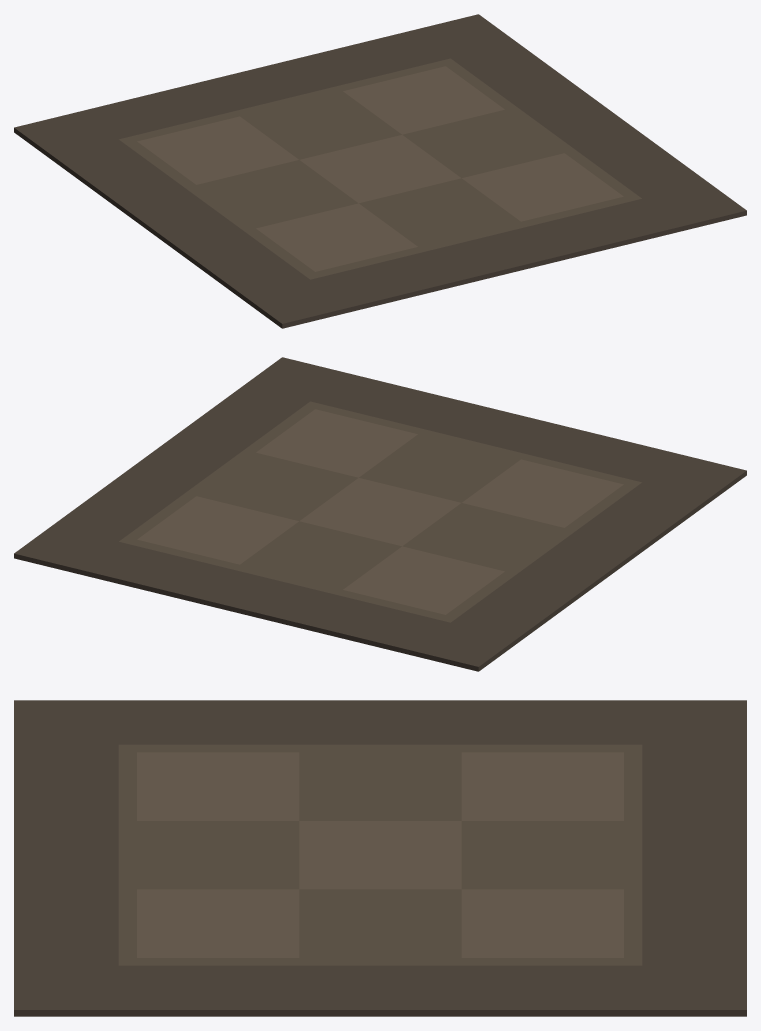
File: SM_Props_Interior_House_Room_Rug_03.fbx
3 renders of one model, top to bottom at view 1: azimuth 30°, elevation 25°; view 2: azimuth 150°, elevation 25°; view 3: azimuth 270°, elevation 25°, orthographic. The views are drawn at different scales.
Visible parts, largest first — view 1: SM_Props_Interior_House_Room_Rug_03; view 2: SM_Props_Interior_House_Room_Rug_03; view 3: SM_Props_Interior_House_Room_Rug_03.
Boxes of the visible parts, bbox=[...] form: SM_Props_Interior_House_Room_Rug_03: bbox=[14, 14, 746, 328]; SM_Props_Interior_House_Room_Rug_03: bbox=[14, 357, 746, 671]; SM_Props_Interior_House_Room_Rug_03: bbox=[14, 700, 746, 1016].
Size of the model in its own units: 200 by 2 by 200.
